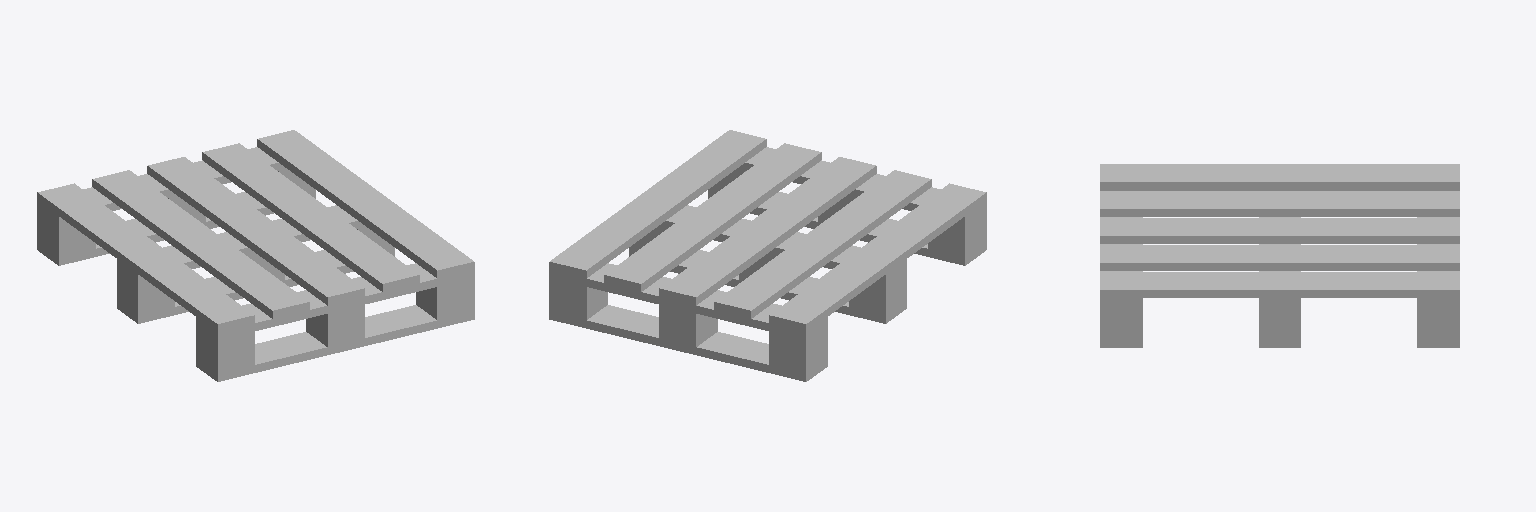
The model's file is Pallet.obj.
3 renders of one model, left to right at view 1: azimuth 30°, elevation 25°; view 2: azimuth 150°, elevation 25°; view 3: azimuth 270°, elevation 25°, orthographic.
Visible parts, largest first — view 1: Pallet; view 2: Pallet; view 3: Pallet.
Boxes of the visible parts, <box> form: Pallet: <box>37,130,474,381</box>; Pallet: <box>549,130,986,381</box>; Pallet: <box>1100,164,1459,347</box>.
Size of the model in its own units: 0.8 by 0.1725 by 0.9712.